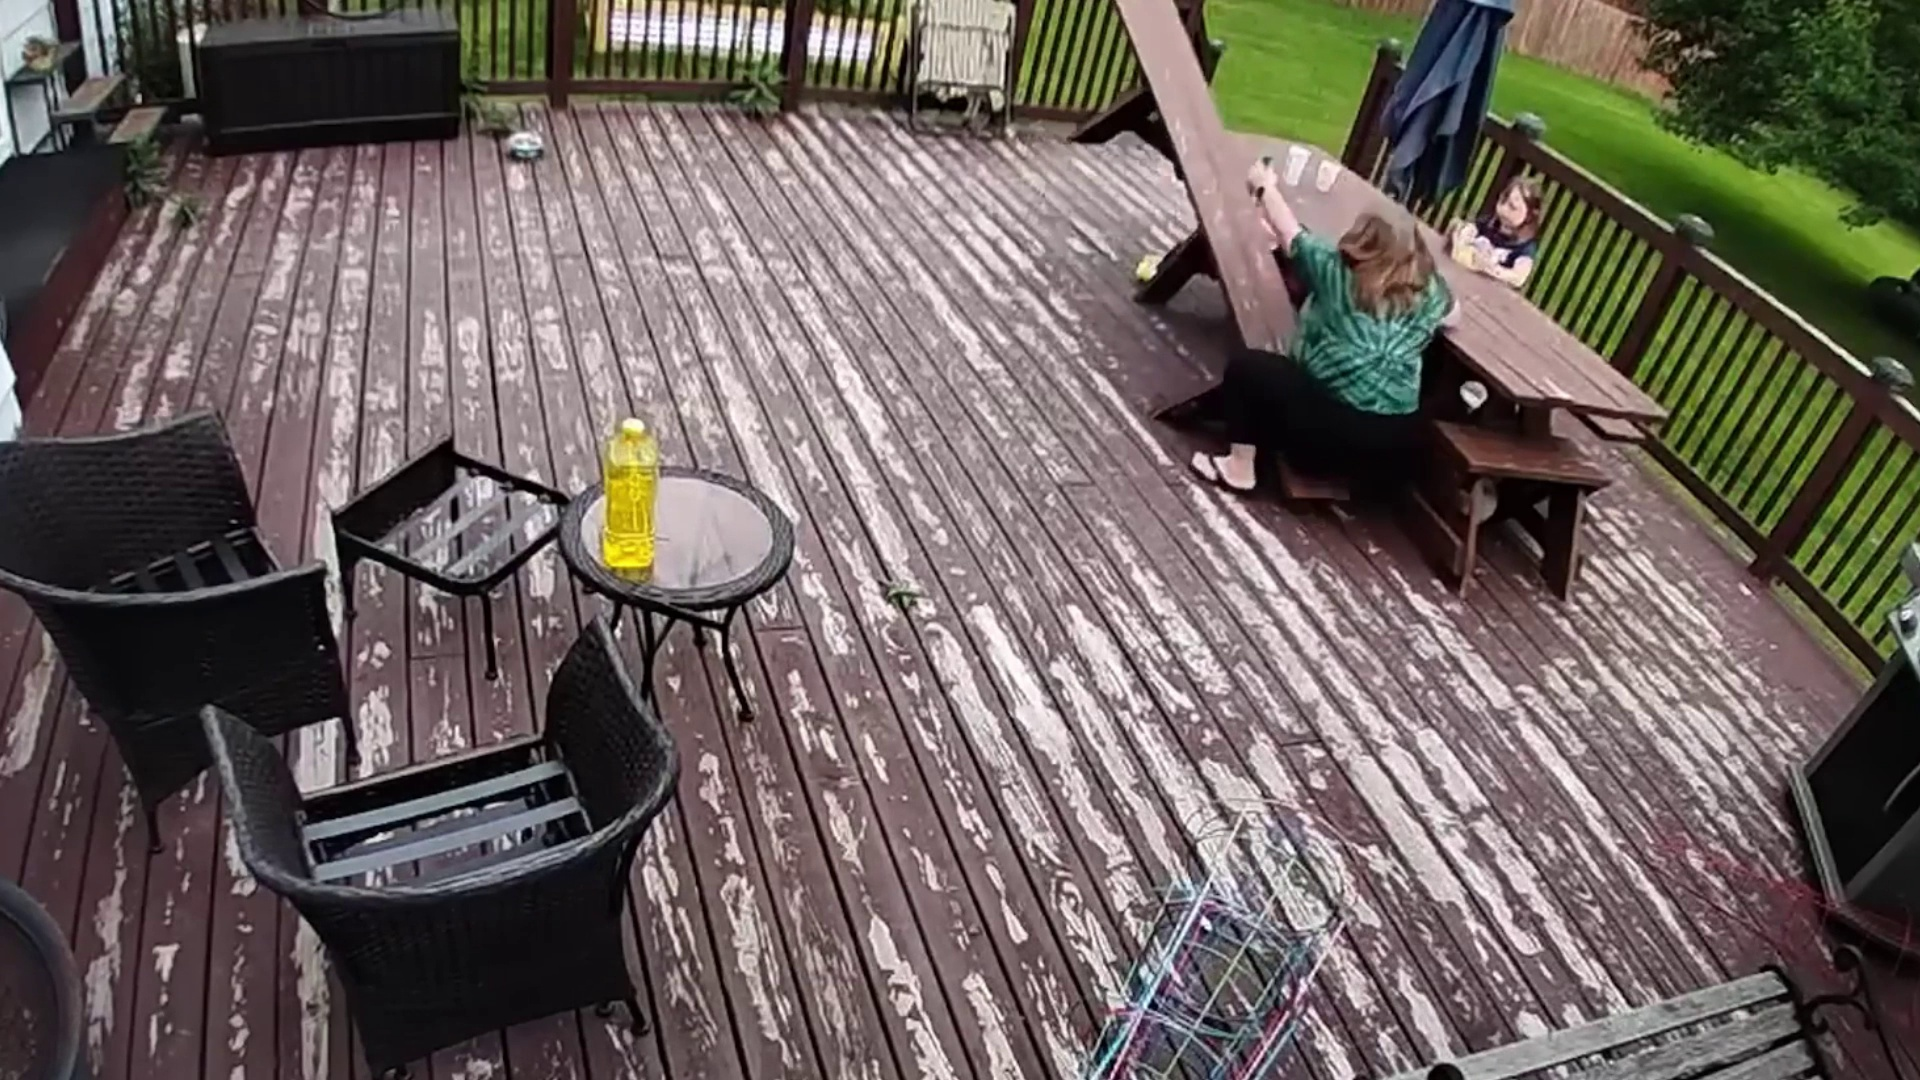fall: (1261, 198, 1447, 504)
